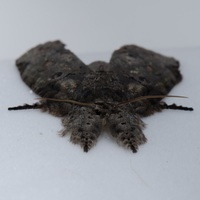insect: (9, 40, 192, 151)
